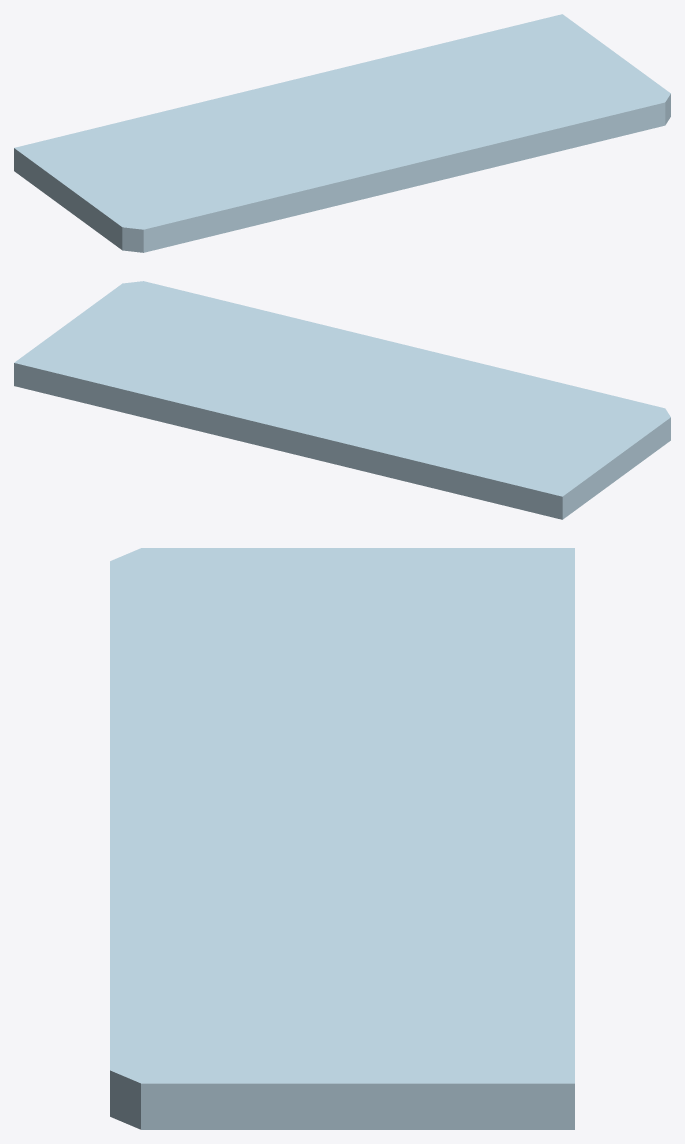
Rendered from STAM - M4.gltf.
3 renders of one model, top to bottom at view 1: azimuth 30°, elevation 25°; view 2: azimuth 150°, elevation 25°; view 3: azimuth 270°, elevation 25°, orthographic. The views are drawn at different scales.
Visible parts, largest first — view 1: M4; view 2: M4; view 3: M4.
Boxes of the visible parts, x1,y1,x2,y2 form: M4: (14,14,670,252); M4: (14,281,670,519); M4: (110,548,574,1129).
Size of the model in its own units: 0.0409 by 0.00165 by 0.015.
